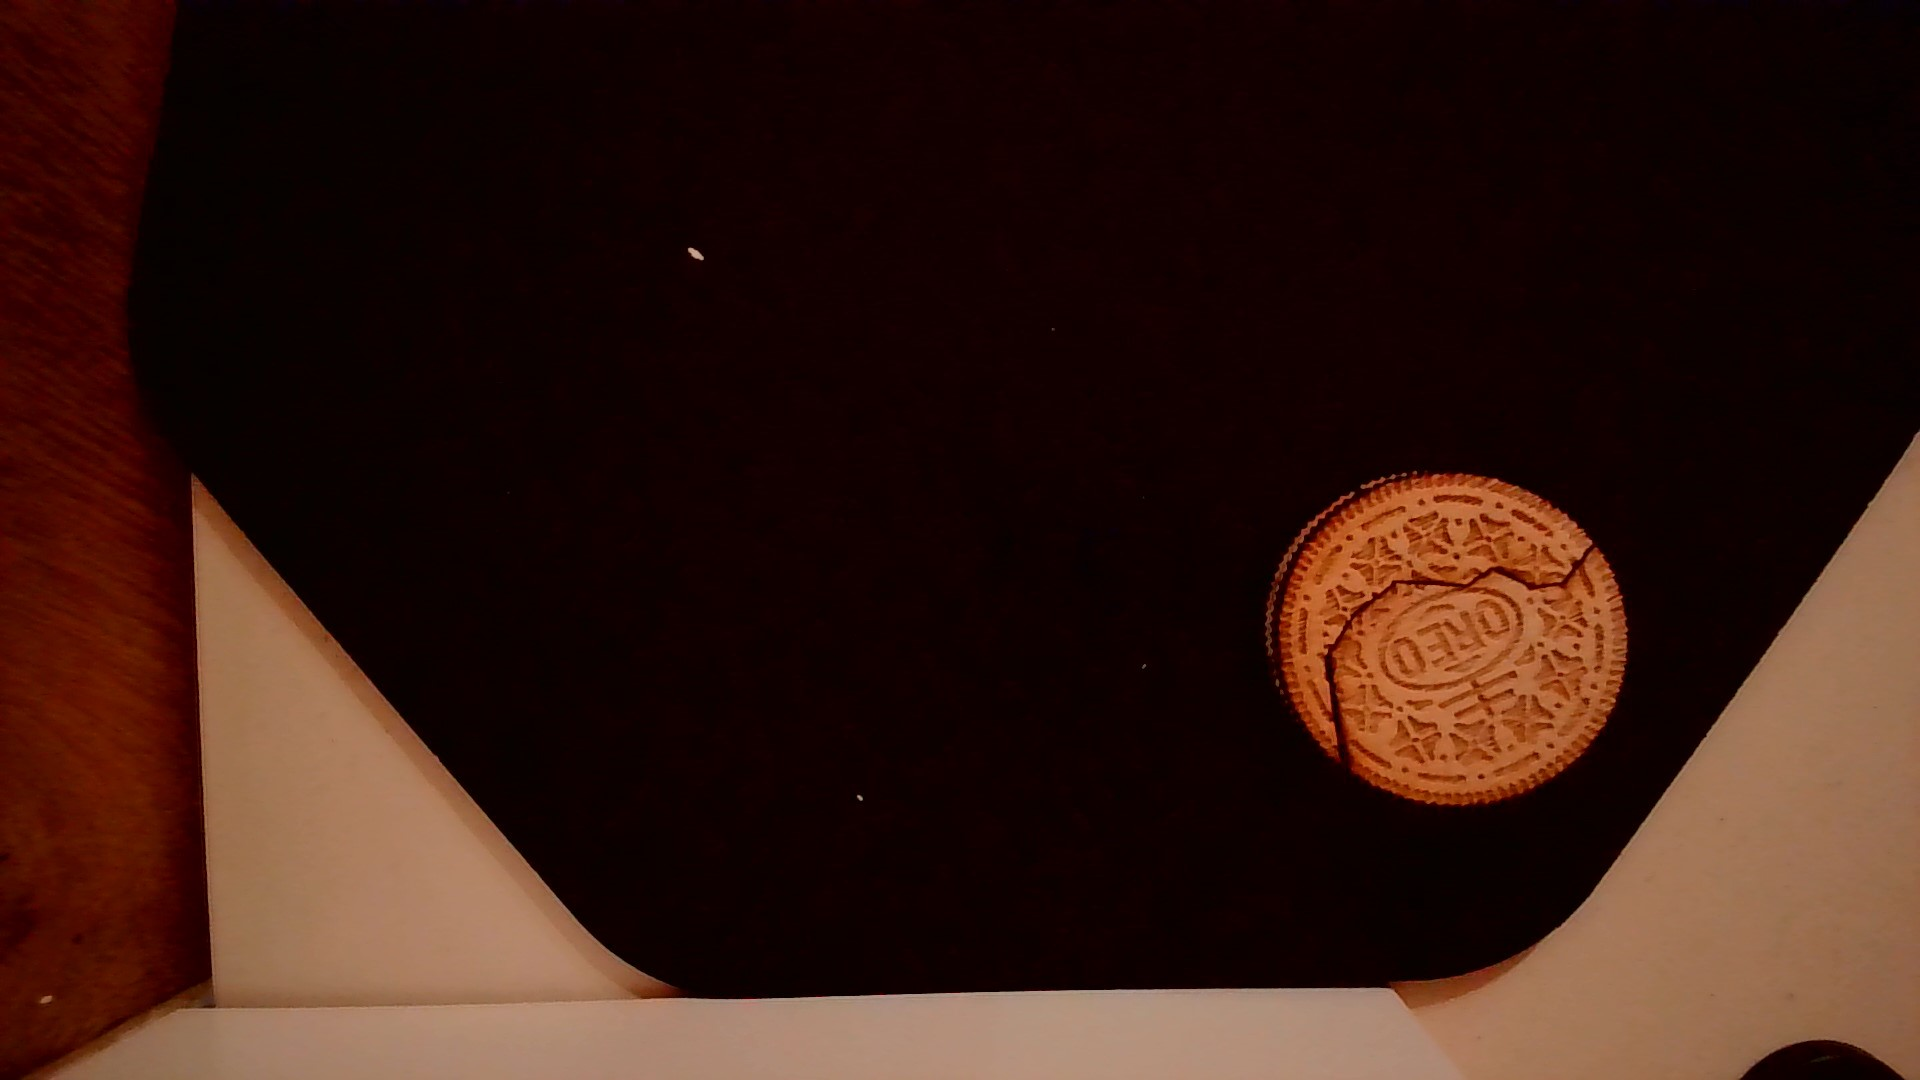Fissure: (1320, 531, 1601, 794)
Oréo: (1257, 462, 1635, 814)
